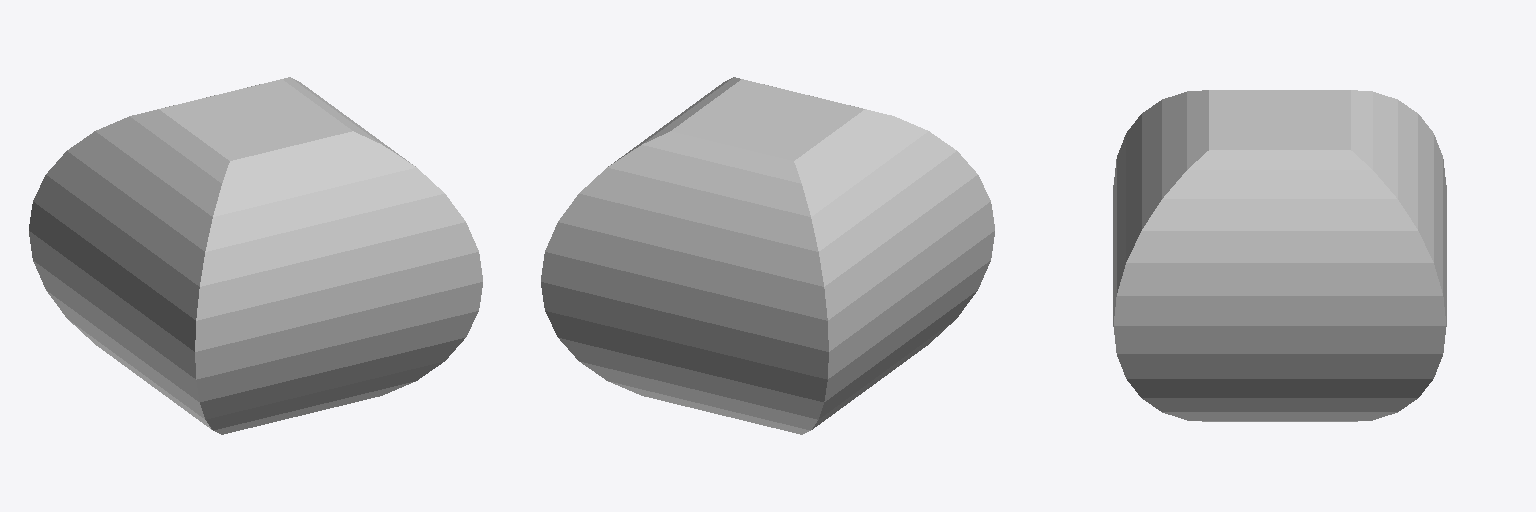
Rendered from technic_oblatesphere.obj.
3 renders of one model, left to right at view 1: azimuth 30°, elevation 25°; view 2: azimuth 150°, elevation 25°; view 3: azimuth 270°, elevation 25°, orthographic.
Visible parts, largest first — view 1: Cube; view 2: Cube; view 3: Cube.
Boxes of the visible parts, box(x1,y1,x2,y2) form: Cube: box(29, 77, 482, 434); Cube: box(541, 77, 994, 434); Cube: box(1113, 90, 1446, 421).
Bounding box in the file's own units: 1 × 0.9 × 1.